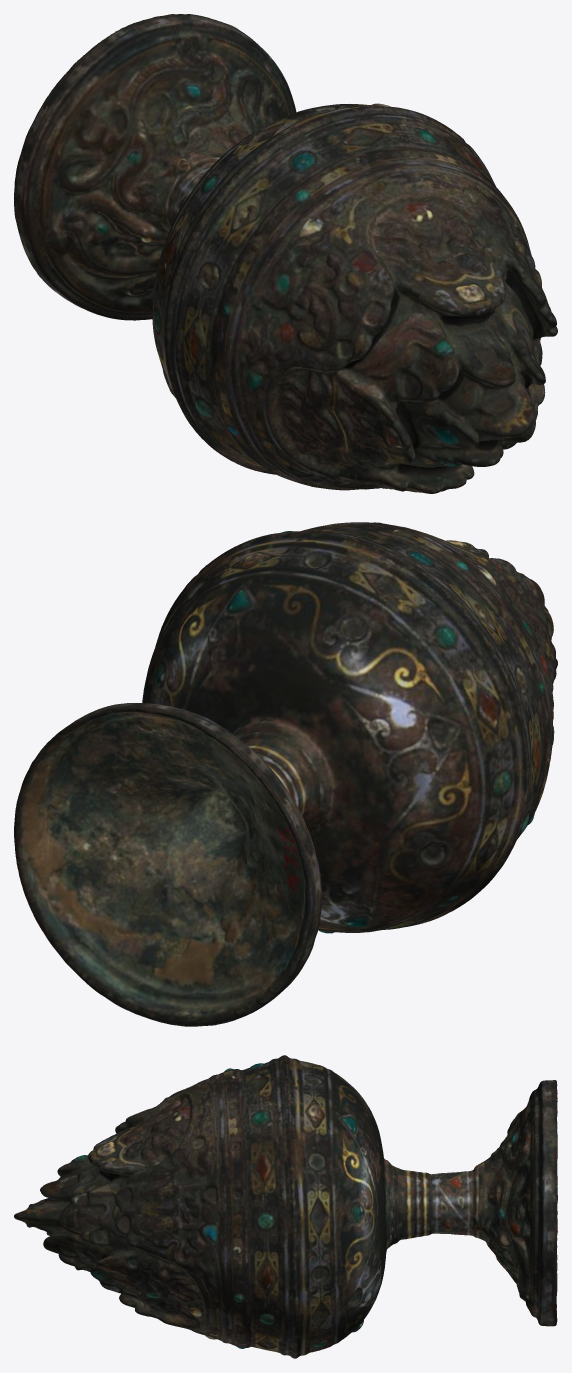
File: si-boshanlu.glb
3 views of the same model, one above another, from view 1: azimuth 30°, elevation 25°; view 2: azimuth 150°, elevation 25°; view 3: azimuth 270°, elevation 25° (orthographic). The views are drawn at different scales.
Size of the model in its own units: 101 by 99.98 by 179.
1 material, 1 textured.
